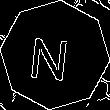N_N: (33, 28, 77, 82)
